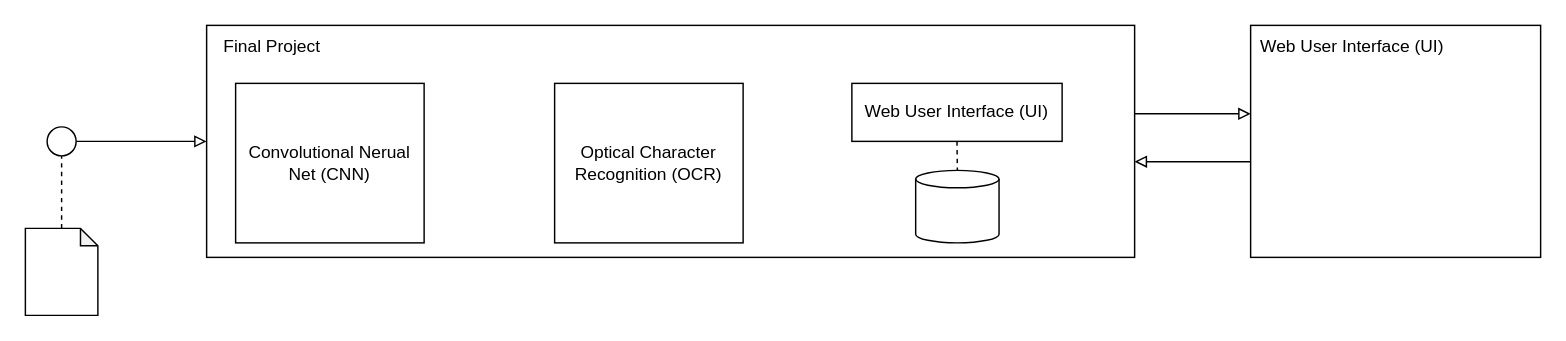
The diagram is 1566 pixels wide and 341 high, and some of its shapes have lost their labels. The shapes that lost their labels are listed below. From the top down, each one's centre as x and y in pixels, then its label:
At pixel 956 206: "Database".
At pixel 61 271: "Labelled Images".
